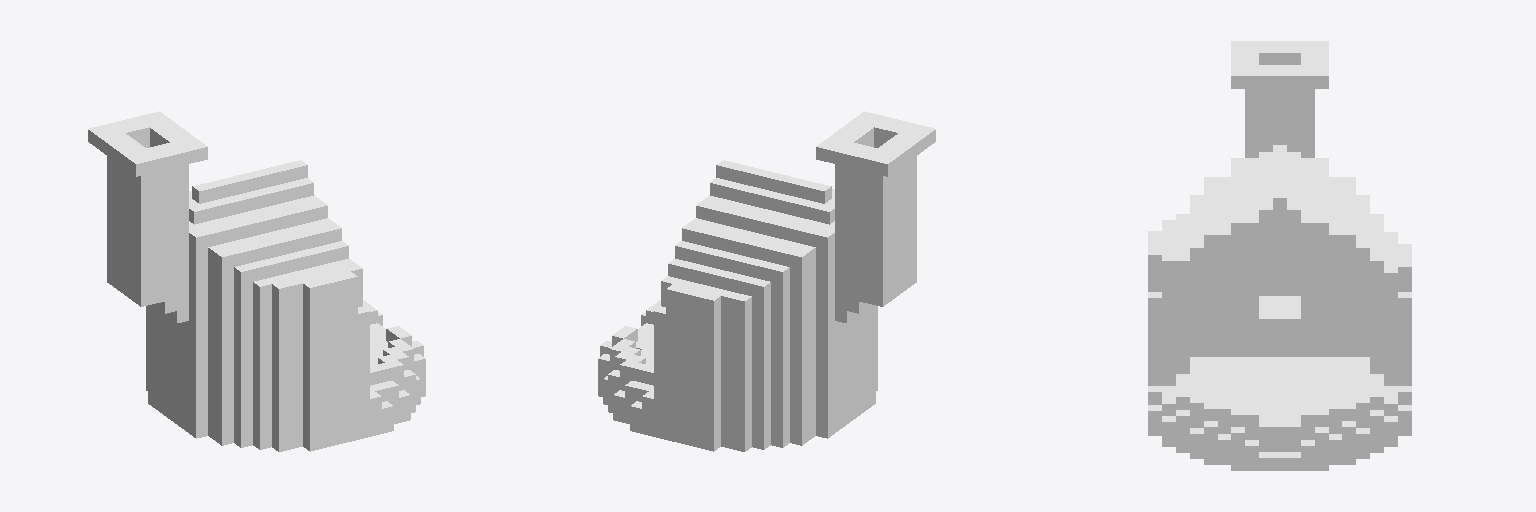
File: smelter.obj
3 renders of one model, left to right at view 1: azimuth 30°, elevation 25°; view 2: azimuth 150°, elevation 25°; view 3: azimuth 270°, elevation 25°, orthographic.
Visible parts, largest first — view 1: object 1; view 2: object 1; view 3: object 1.
Boxes of the visible parts, box(x1,y1,x2,y2) form: object 1: box(88, 111, 425, 451); object 1: box(598, 111, 935, 451); object 1: box(1148, 41, 1411, 470).
Bounding box in the file's own units: 2.4 × 2.3 × 1.9.